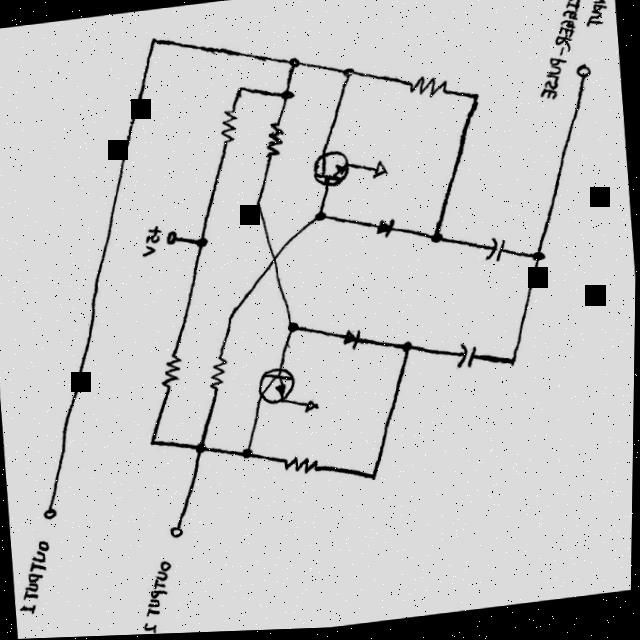capacitor: (456, 340, 482, 379), (484, 236, 509, 273)
diode: (373, 216, 399, 246), (341, 327, 365, 356)
ground: (370, 158, 392, 185), (302, 396, 325, 418)
junction: (189, 437, 213, 461), (276, 85, 298, 109), (237, 445, 261, 467), (425, 229, 449, 251), (503, 353, 525, 377), (335, 63, 360, 84), (310, 206, 332, 229), (362, 469, 386, 489), (466, 88, 486, 110), (395, 339, 418, 358), (530, 249, 549, 272), (191, 232, 210, 252), (143, 33, 164, 51), (284, 55, 302, 76), (265, 250, 286, 268), (284, 320, 303, 339), (224, 307, 241, 328), (250, 194, 266, 211), (145, 435, 162, 451), (231, 84, 247, 96)
resistor: (407, 73, 449, 105), (282, 454, 323, 479), (161, 348, 184, 389), (209, 353, 230, 393), (265, 119, 285, 160), (219, 106, 239, 146)
terminal: (165, 226, 187, 251), (572, 63, 594, 84), (42, 503, 61, 521), (168, 524, 187, 542)
text: (540, 0, 585, 105), (16, 536, 55, 615), (139, 558, 178, 636), (583, 0, 614, 34), (140, 223, 163, 259)
transistor: (309, 148, 353, 192), (256, 363, 298, 409)
